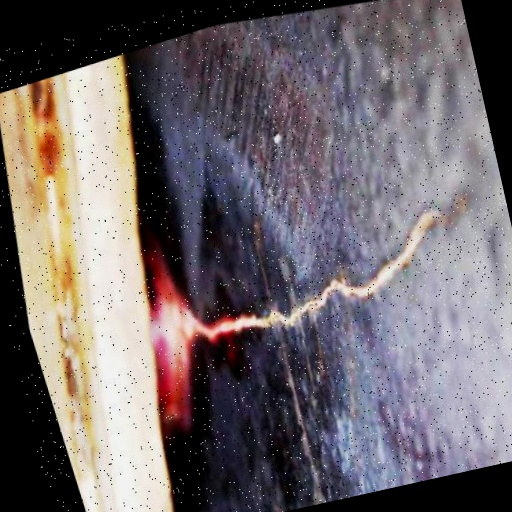crack: (255, 59, 512, 467)
